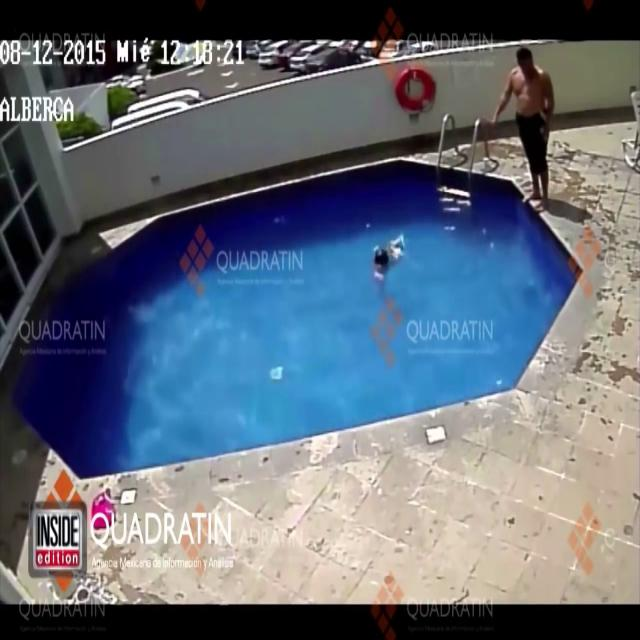adult: (490, 48, 556, 225)
child: (370, 245, 393, 289)
